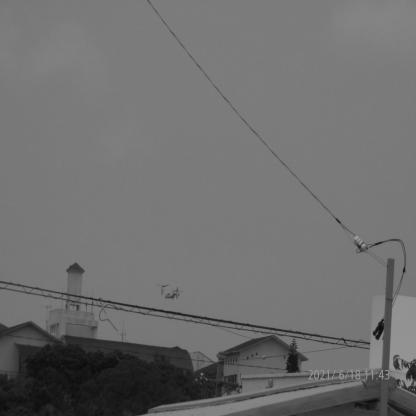V22: (157, 285, 184, 301)
